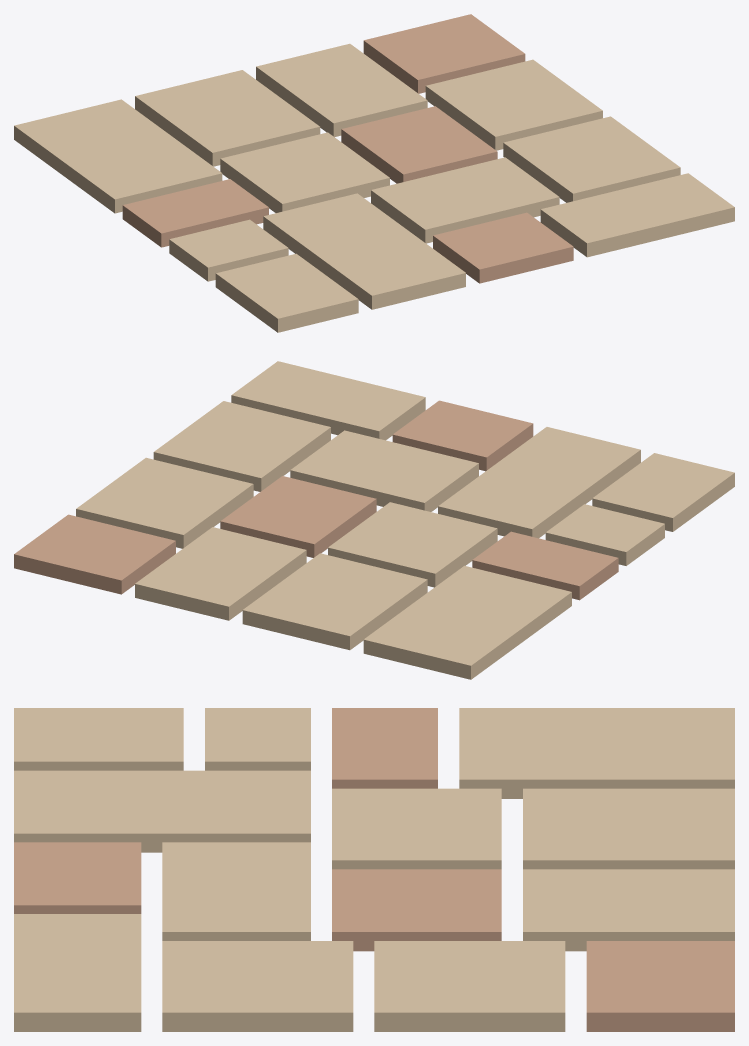
Rendered from BS_Ground_2.fbx.
3 views of the same model, one above another, from view 1: azimuth 30°, elevation 25°; view 2: azimuth 150°, elevation 25°; view 3: azimuth 270°, elevation 25° (orthographic). The views are drawn at different scales.
Parts seen in each view (by area): view 1: BS_Ground_2; view 2: BS_Ground_2; view 3: BS_Ground_2.
Boxes of the visible parts, left/top/right/bottom form: BS_Ground_2: left=14, top=14, right=734, bottom=332; BS_Ground_2: left=14, top=361, right=734, bottom=679; BS_Ground_2: left=14, top=708, right=734, bottom=1031.
Bounding box in the file's own units: 85 × 85 × 2.5.
